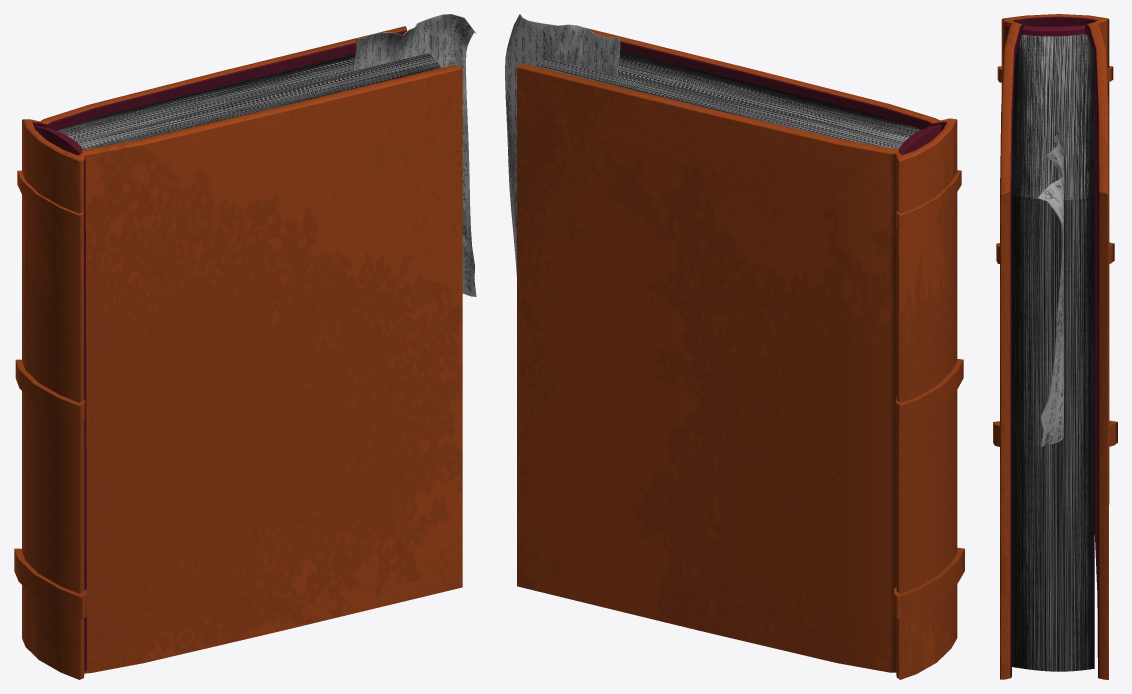
The model's file is book04.fbx.
3 renders of one model, left to right at view 1: azimuth 30°, elevation 25°; view 2: azimuth 150°, elevation 25°; view 3: azimuth 270°, elevation 25°, orthographic. The views are drawn at different scales.
Parts seen in each view (by area): view 1: pCube10, pages5, paper3, spine4; view 2: pCube10, pages5, paper3; view 3: pages5, pCube10, paper3, spine4.
Part boxes in pixels (<box>): pCube10: <box>14,26,462,679</box>; pages5: <box>57,53,440,149</box>; paper3: <box>353,14,476,296</box>; spine4: <box>35,126,86,671</box>; pCube10: <box>517,28,964,679</box>; pages5: <box>536,50,921,148</box>; paper3: <box>505,14,620,275</box>; pages5: <box>1012,33,1094,671</box>; pCube10: <box>993,14,1117,679</box>; paper3: <box>1037,135,1063,446</box>; spine4: <box>1005,24,1085,40</box>.
Size of the model in its own units: 0.5877 by 0.7056 by 0.1561.
